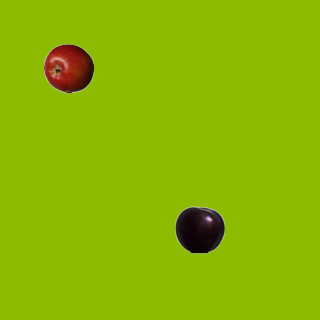Apple Braeburn: (43, 43, 93, 93)
Cherry Wax Black: (174, 204, 224, 254)
